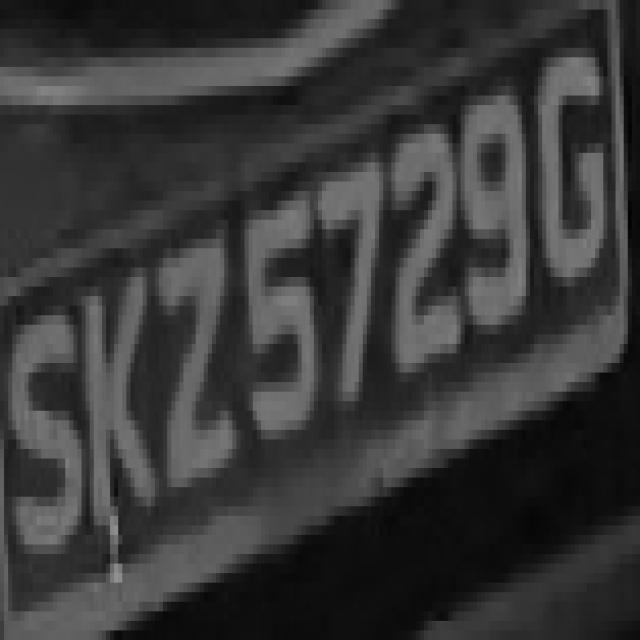2: (375, 115, 465, 392)
5: (240, 162, 318, 458)
7: (298, 124, 392, 430)
9: (448, 86, 530, 353)
G: (538, 29, 620, 334)
K: (77, 239, 159, 544)
S: (4, 248, 86, 592)
Z: (143, 191, 245, 525)
